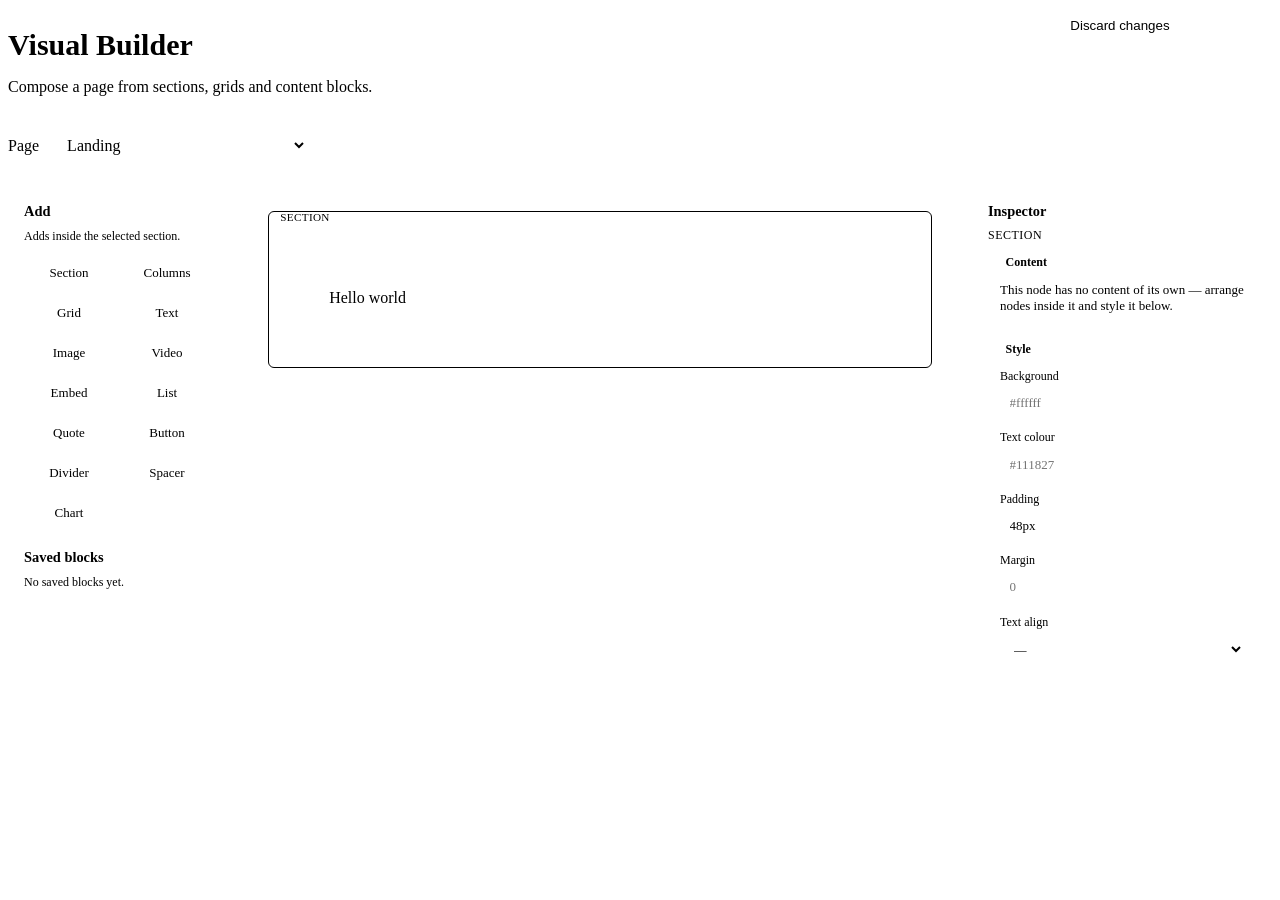
Scenario: the inspector editing a node › updates the selected node prop as its field is edited
# Select the stored text node by clicking it on the canvas.
Step 1. Click the element with class "bnode" showing "Hello world" → (368, 298), box 329,289 -> 406,306
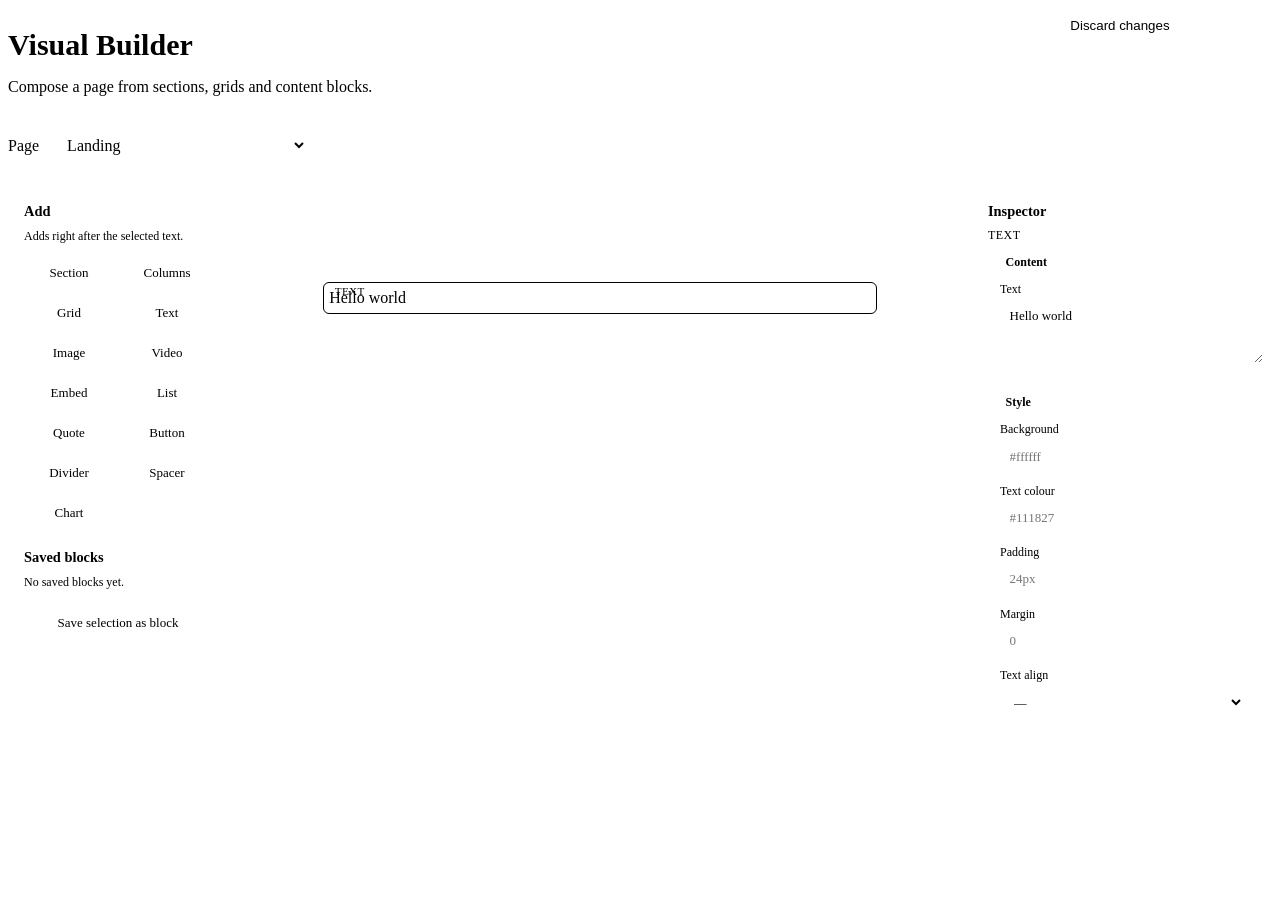
Expected: the text box labelled "Text" is shown
Step 2. Replace the text in the text box labelled "Text" with "Edited copy" → (1132, 332), box 1000,301 -> 1263,364
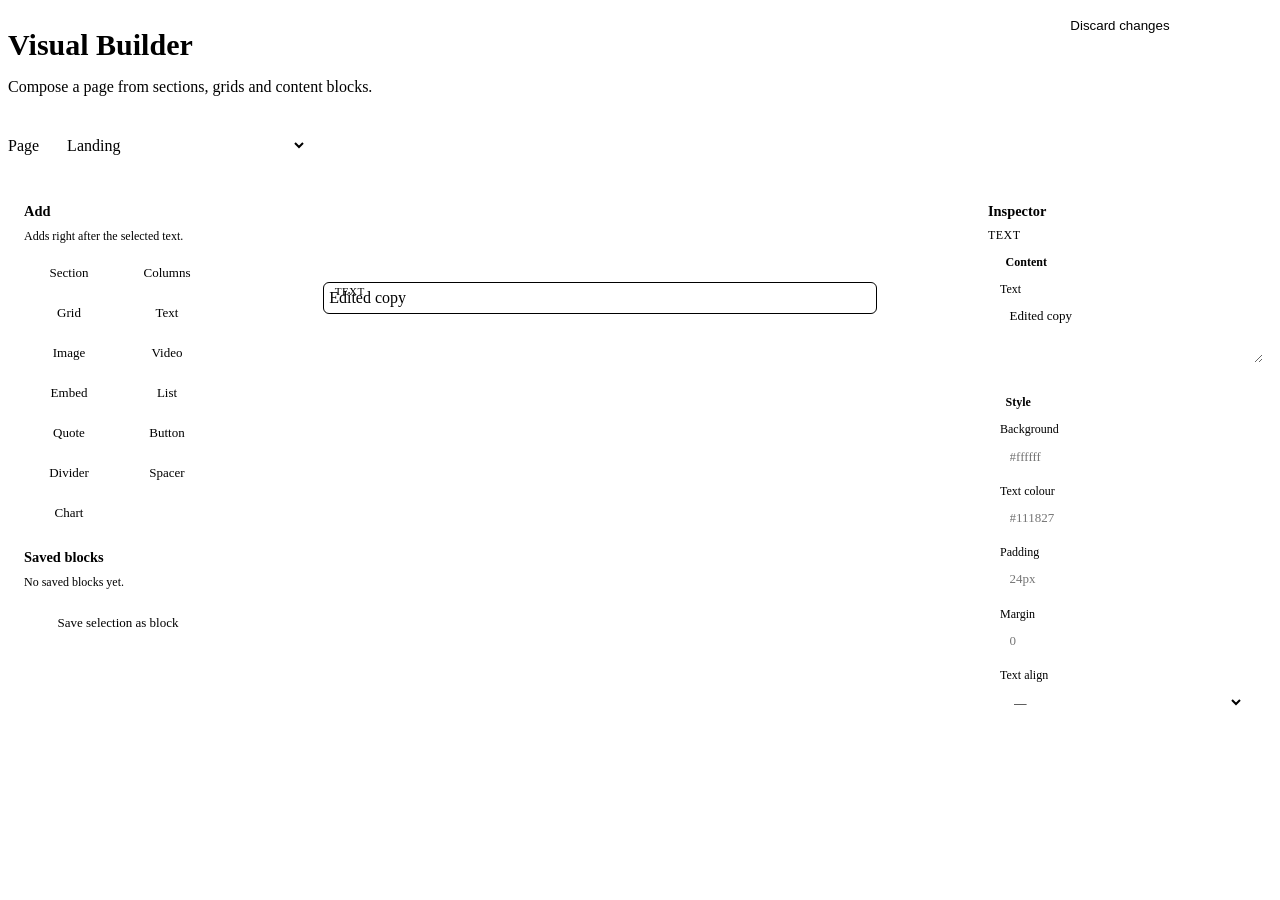
Expected: the text with class "leaf-text" reads "Edited copy", 329,289 -> 406,306
